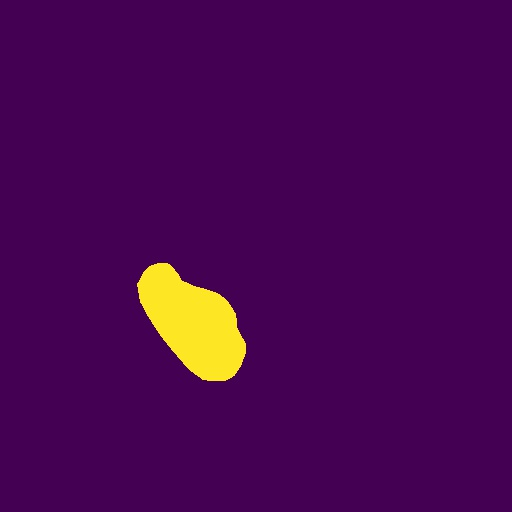Gliomia_tumour: (137, 263, 246, 381)
